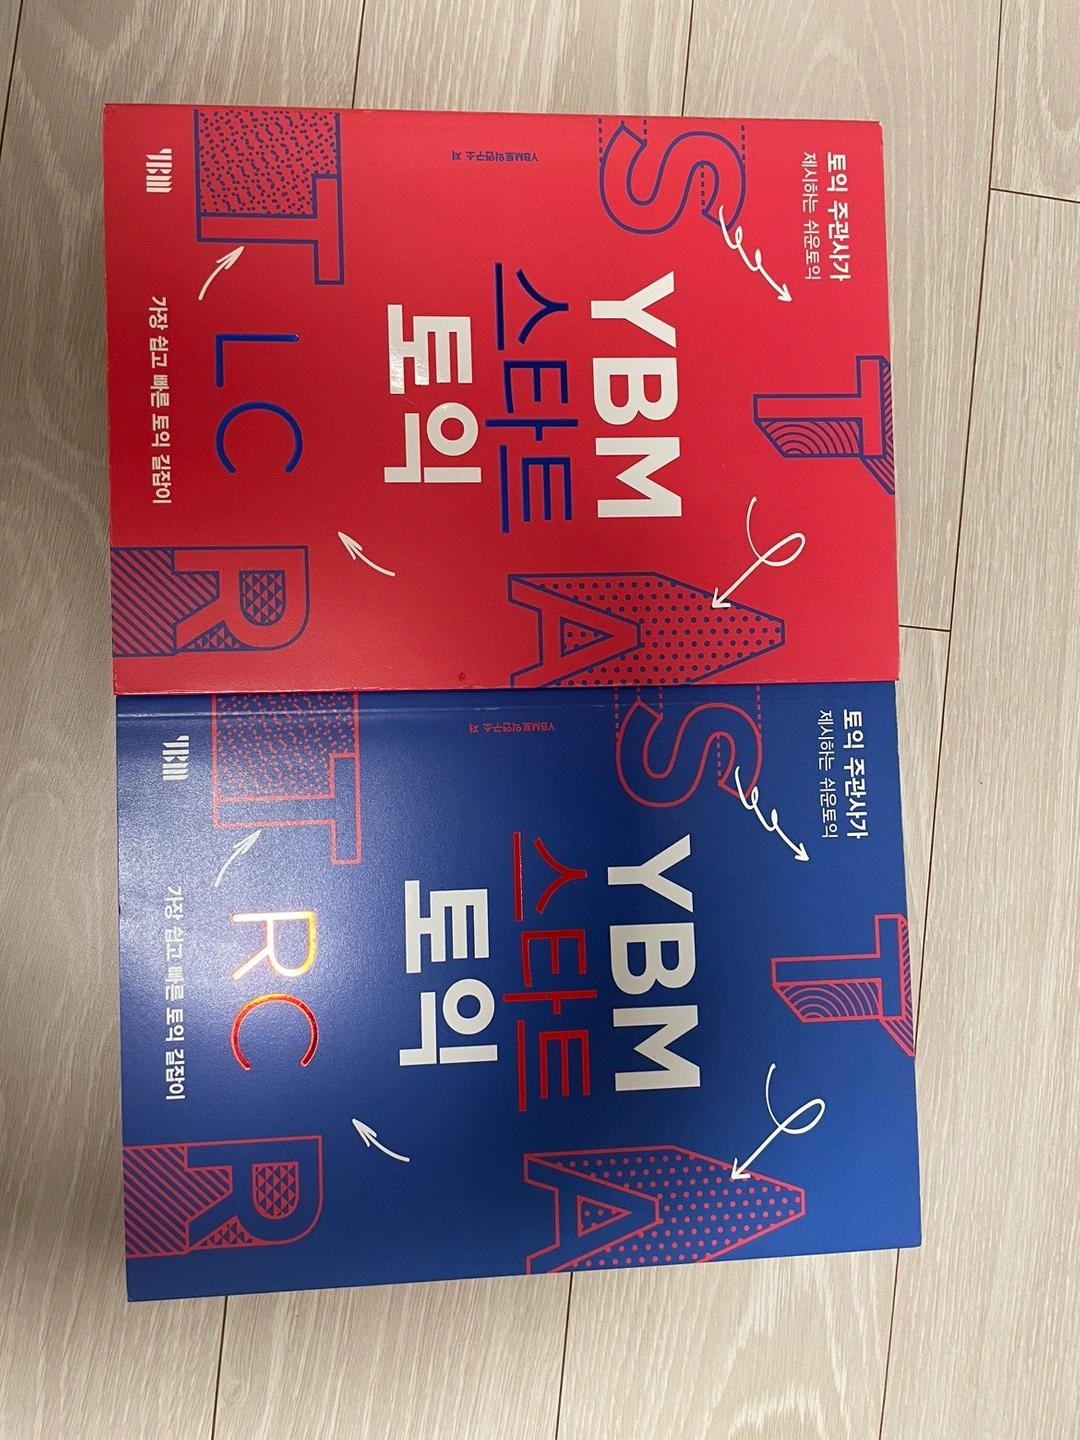book: (115, 680, 921, 1302), (102, 100, 898, 692)
